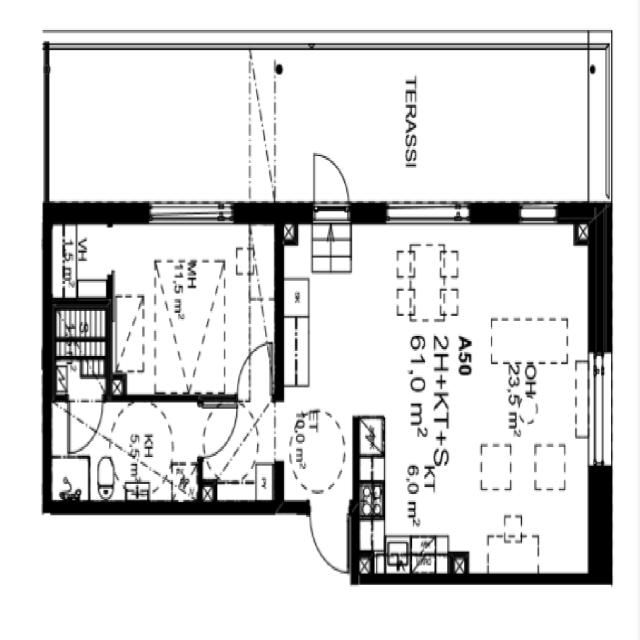door: (304, 144, 357, 213), (305, 498, 349, 574), (61, 391, 105, 456), (196, 397, 239, 461)
window: (379, 192, 472, 230), (588, 349, 614, 475), (143, 193, 234, 228), (511, 196, 564, 230), (267, 390, 286, 471)
zone: (348, 219, 596, 575), (98, 214, 276, 397), (50, 398, 212, 504), (48, 304, 109, 390)
